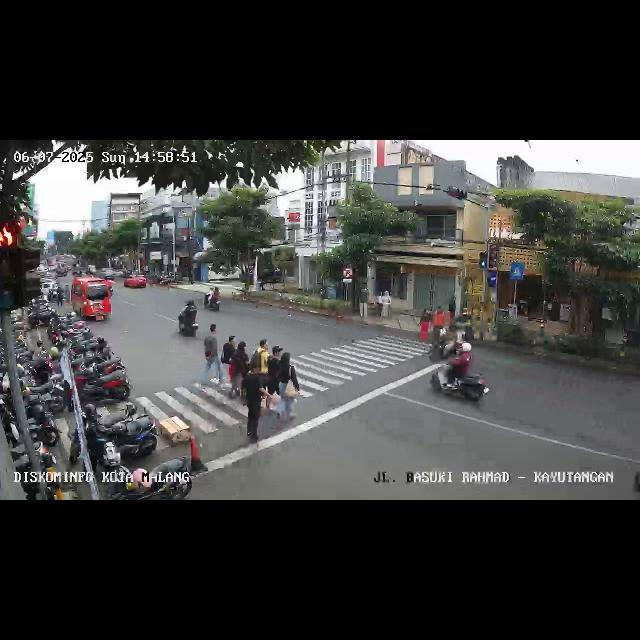car: (70, 276, 112, 322), (124, 273, 148, 291)
motorcycle: (429, 350, 491, 408), (177, 300, 200, 340), (204, 285, 222, 311)
person: (268, 344, 298, 420), (241, 356, 267, 439), (200, 323, 220, 387), (229, 341, 247, 399), (248, 337, 270, 373), (222, 334, 236, 386), (434, 306, 446, 342), (377, 289, 391, 317), (419, 308, 431, 340), (358, 286, 369, 316)
